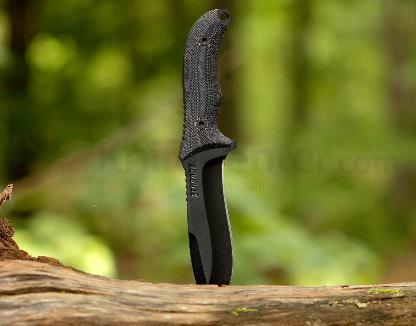knife: (176, 4, 240, 286)
